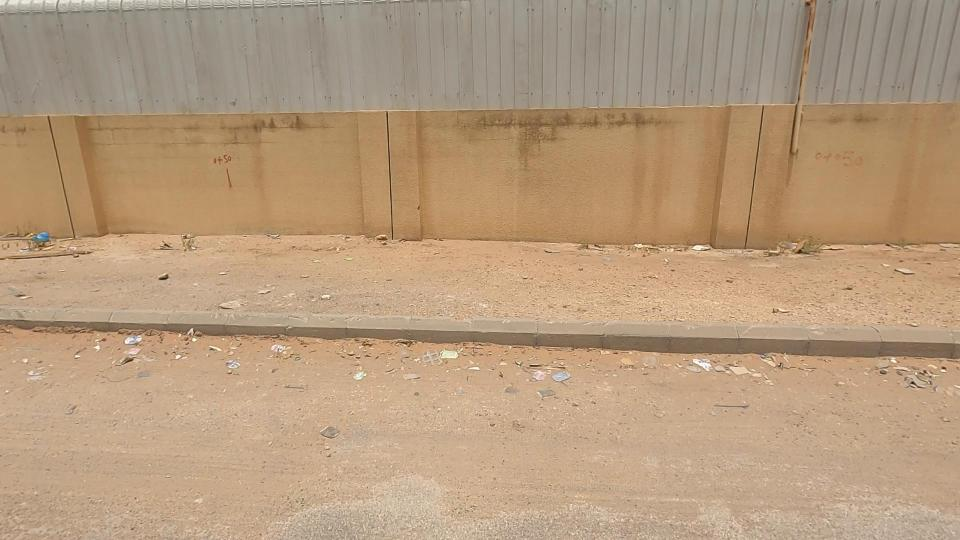GARBAGE: (137, 305, 351, 415), (702, 291, 829, 455), (54, 284, 214, 412), (472, 323, 634, 449), (620, 319, 784, 430), (811, 316, 960, 434), (379, 315, 510, 405), (275, 383, 369, 494), (737, 203, 846, 296), (0, 196, 103, 290), (846, 227, 944, 315), (643, 213, 753, 286), (325, 340, 388, 402)
